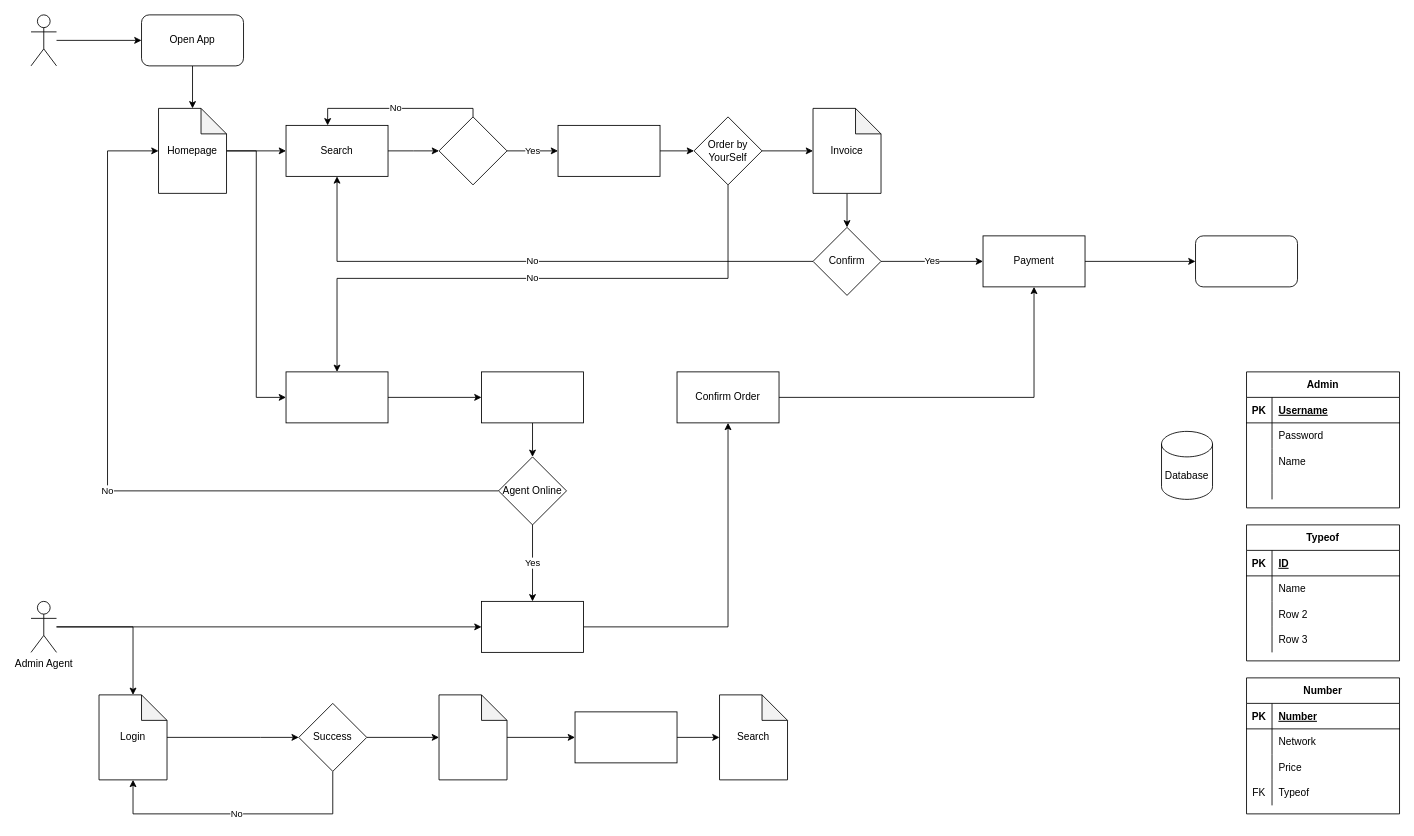
Image size: 1414x836. Some labels were removed from this diagram. Each missing label, with the box of its shape:
Backend Page: (438, 694, 507, 780)
Buy: (557, 125, 660, 176)
Create Session: (481, 371, 584, 423)
Crud: (574, 711, 677, 763)
Customer: (30, 14, 57, 66)
End: (1195, 235, 1298, 287)
Found: (438, 116, 507, 185)
Get Session: (481, 601, 584, 652)
Talk with Live Agent: (285, 371, 388, 423)
